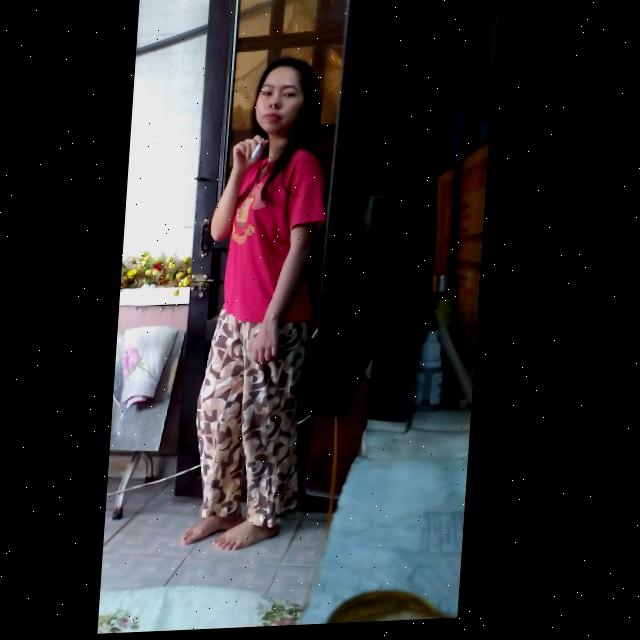cigarette: (252, 140, 267, 163)
